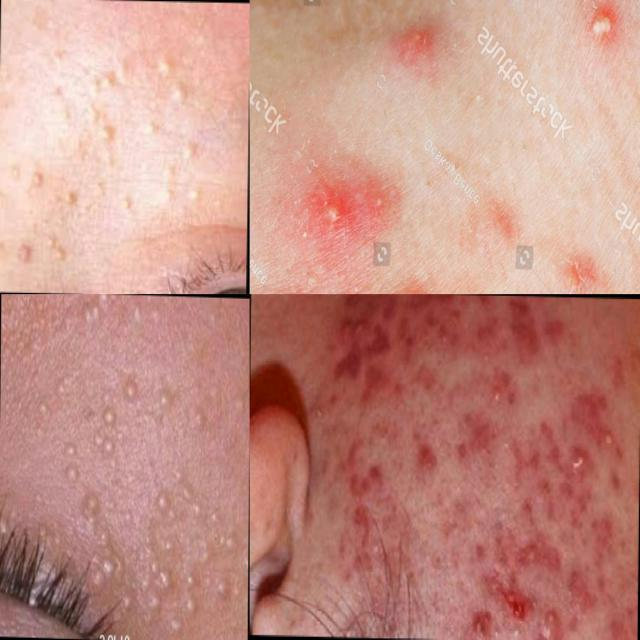Pimples: (79, 487, 137, 620), (7, 230, 80, 273), (72, 52, 140, 95), (141, 548, 174, 618), (82, 99, 126, 150), (90, 396, 118, 464), (348, 496, 382, 550), (157, 485, 190, 540), (576, 0, 620, 38), (324, 182, 355, 235), (158, 60, 190, 110), (404, 15, 434, 66), (502, 574, 532, 625), (339, 306, 372, 350), (538, 591, 567, 638), (373, 412, 397, 460), (464, 603, 496, 636), (487, 371, 513, 411), (60, 436, 81, 484), (566, 444, 590, 484), (154, 378, 178, 418), (25, 164, 51, 200), (178, 135, 201, 171), (79, 297, 104, 327), (312, 388, 332, 424), (602, 414, 620, 452), (58, 184, 84, 210), (123, 371, 141, 407), (478, 336, 498, 368), (182, 587, 199, 619), (36, 393, 52, 423), (213, 572, 229, 602)
